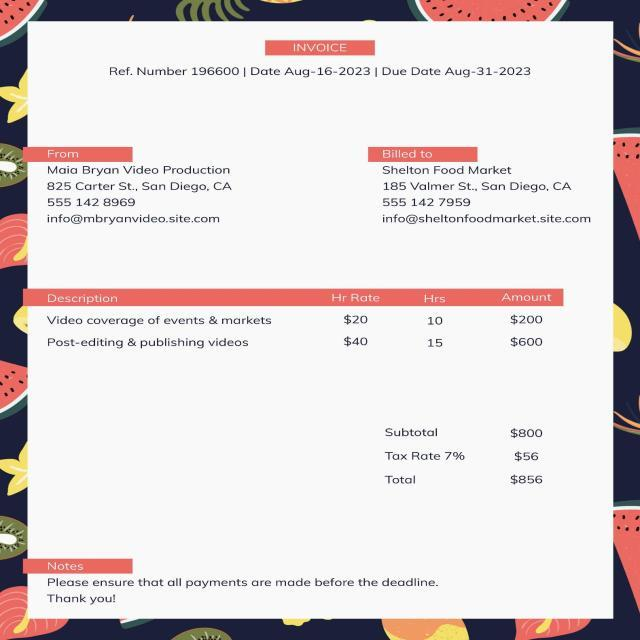ROI: (31, 289, 574, 354), (354, 139, 604, 242), (29, 557, 461, 608), (31, 142, 260, 238), (366, 417, 568, 508), (252, 36, 382, 59), (98, 60, 244, 80), (246, 64, 372, 84), (377, 66, 545, 80)
